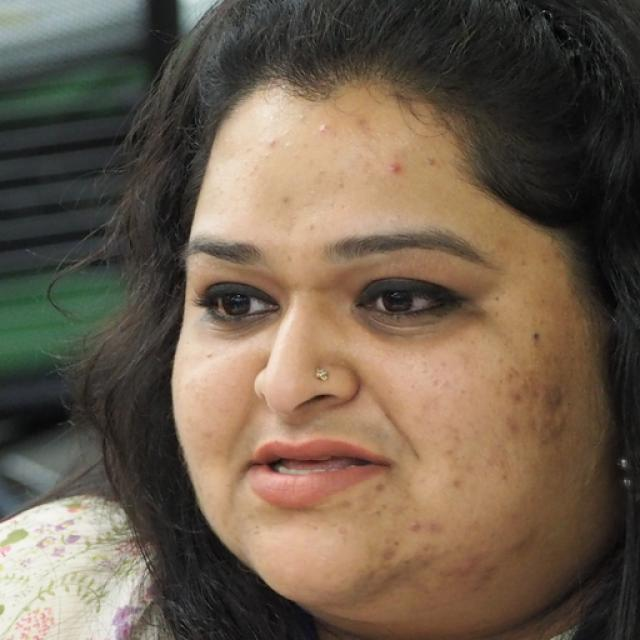Acne: (404, 513, 428, 539), (310, 117, 332, 138), (260, 131, 280, 153), (381, 159, 402, 178)
Dark Circle: (350, 300, 471, 345), (203, 310, 277, 338)
Pigmentation: (531, 375, 570, 449)
